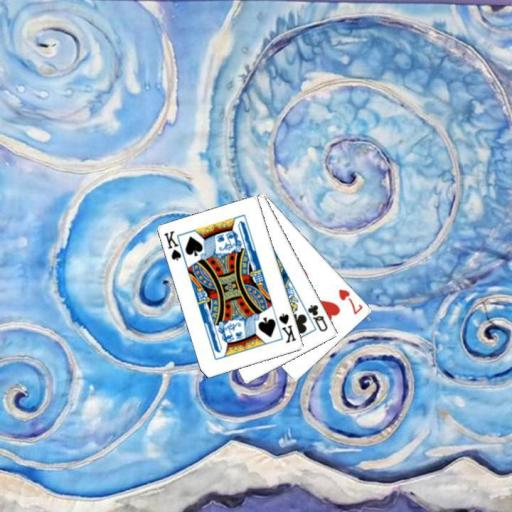7H: (336, 286, 365, 316)
KS: (161, 228, 187, 263), (276, 310, 298, 345)
QC: (305, 302, 330, 334)
